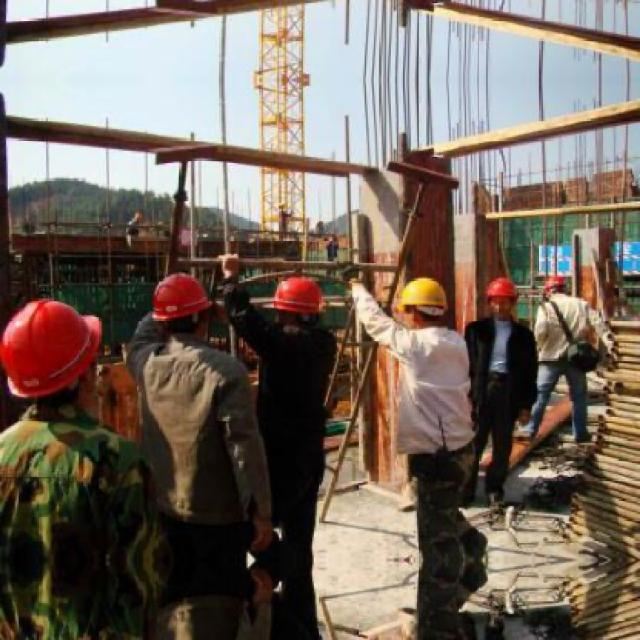con casco: (146, 266, 257, 364), (395, 264, 495, 369), (260, 282, 338, 356), (478, 270, 532, 334), (122, 296, 130, 300)
